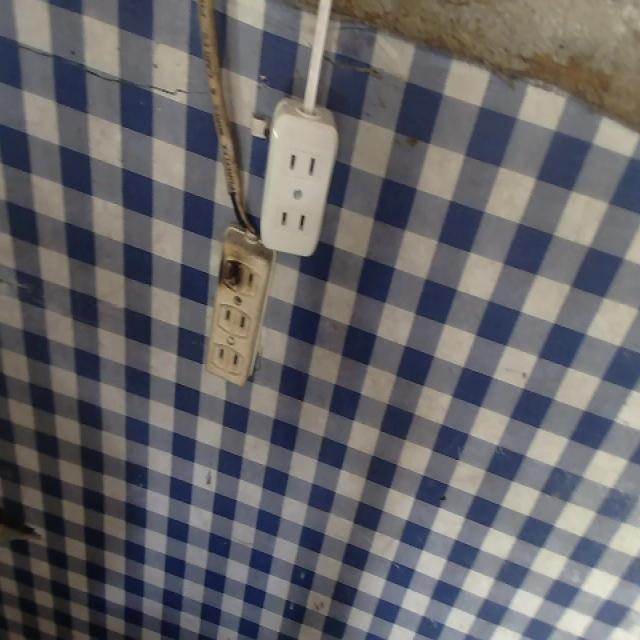-: (217, 245, 247, 295)
